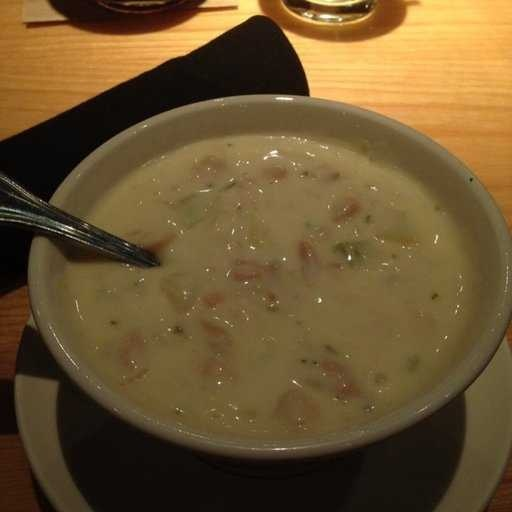soup: (60, 131, 487, 438)
